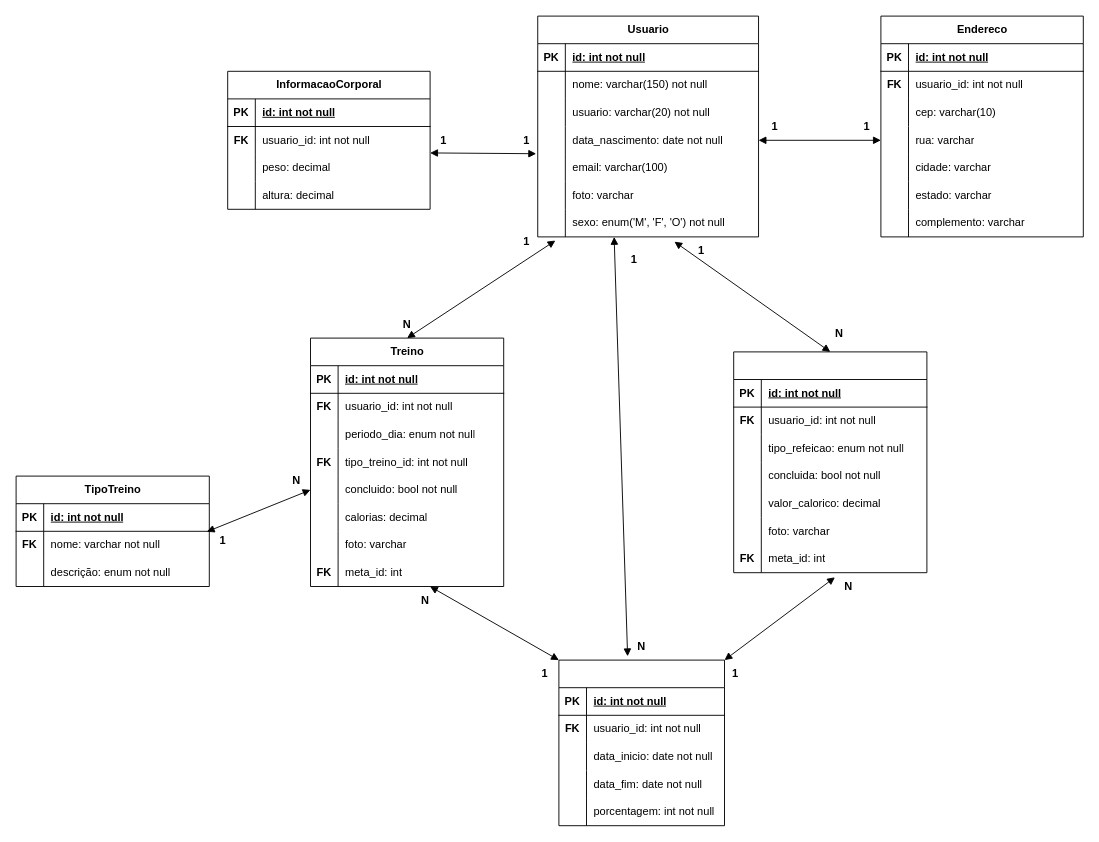
This 1099x842 diagram has some shape labels left out. Each missing label, with the box of its shape:
Alimentacao: (733, 351, 927, 573)
Meta: (558, 659, 724, 826)
